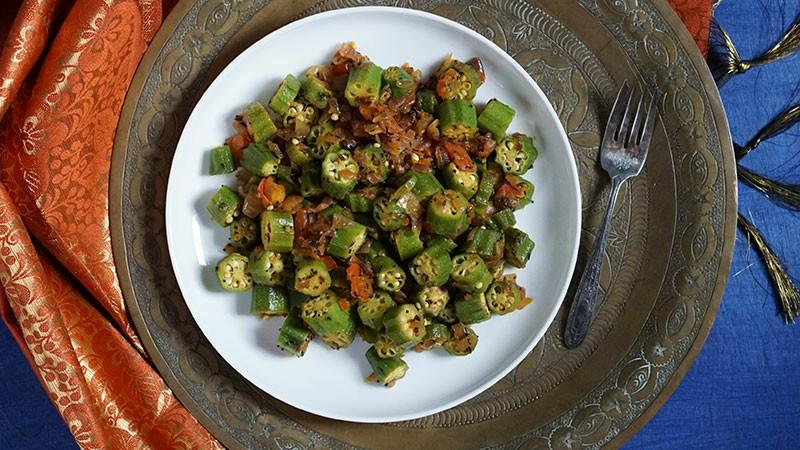BhindiMasala: (209, 42, 537, 388)
